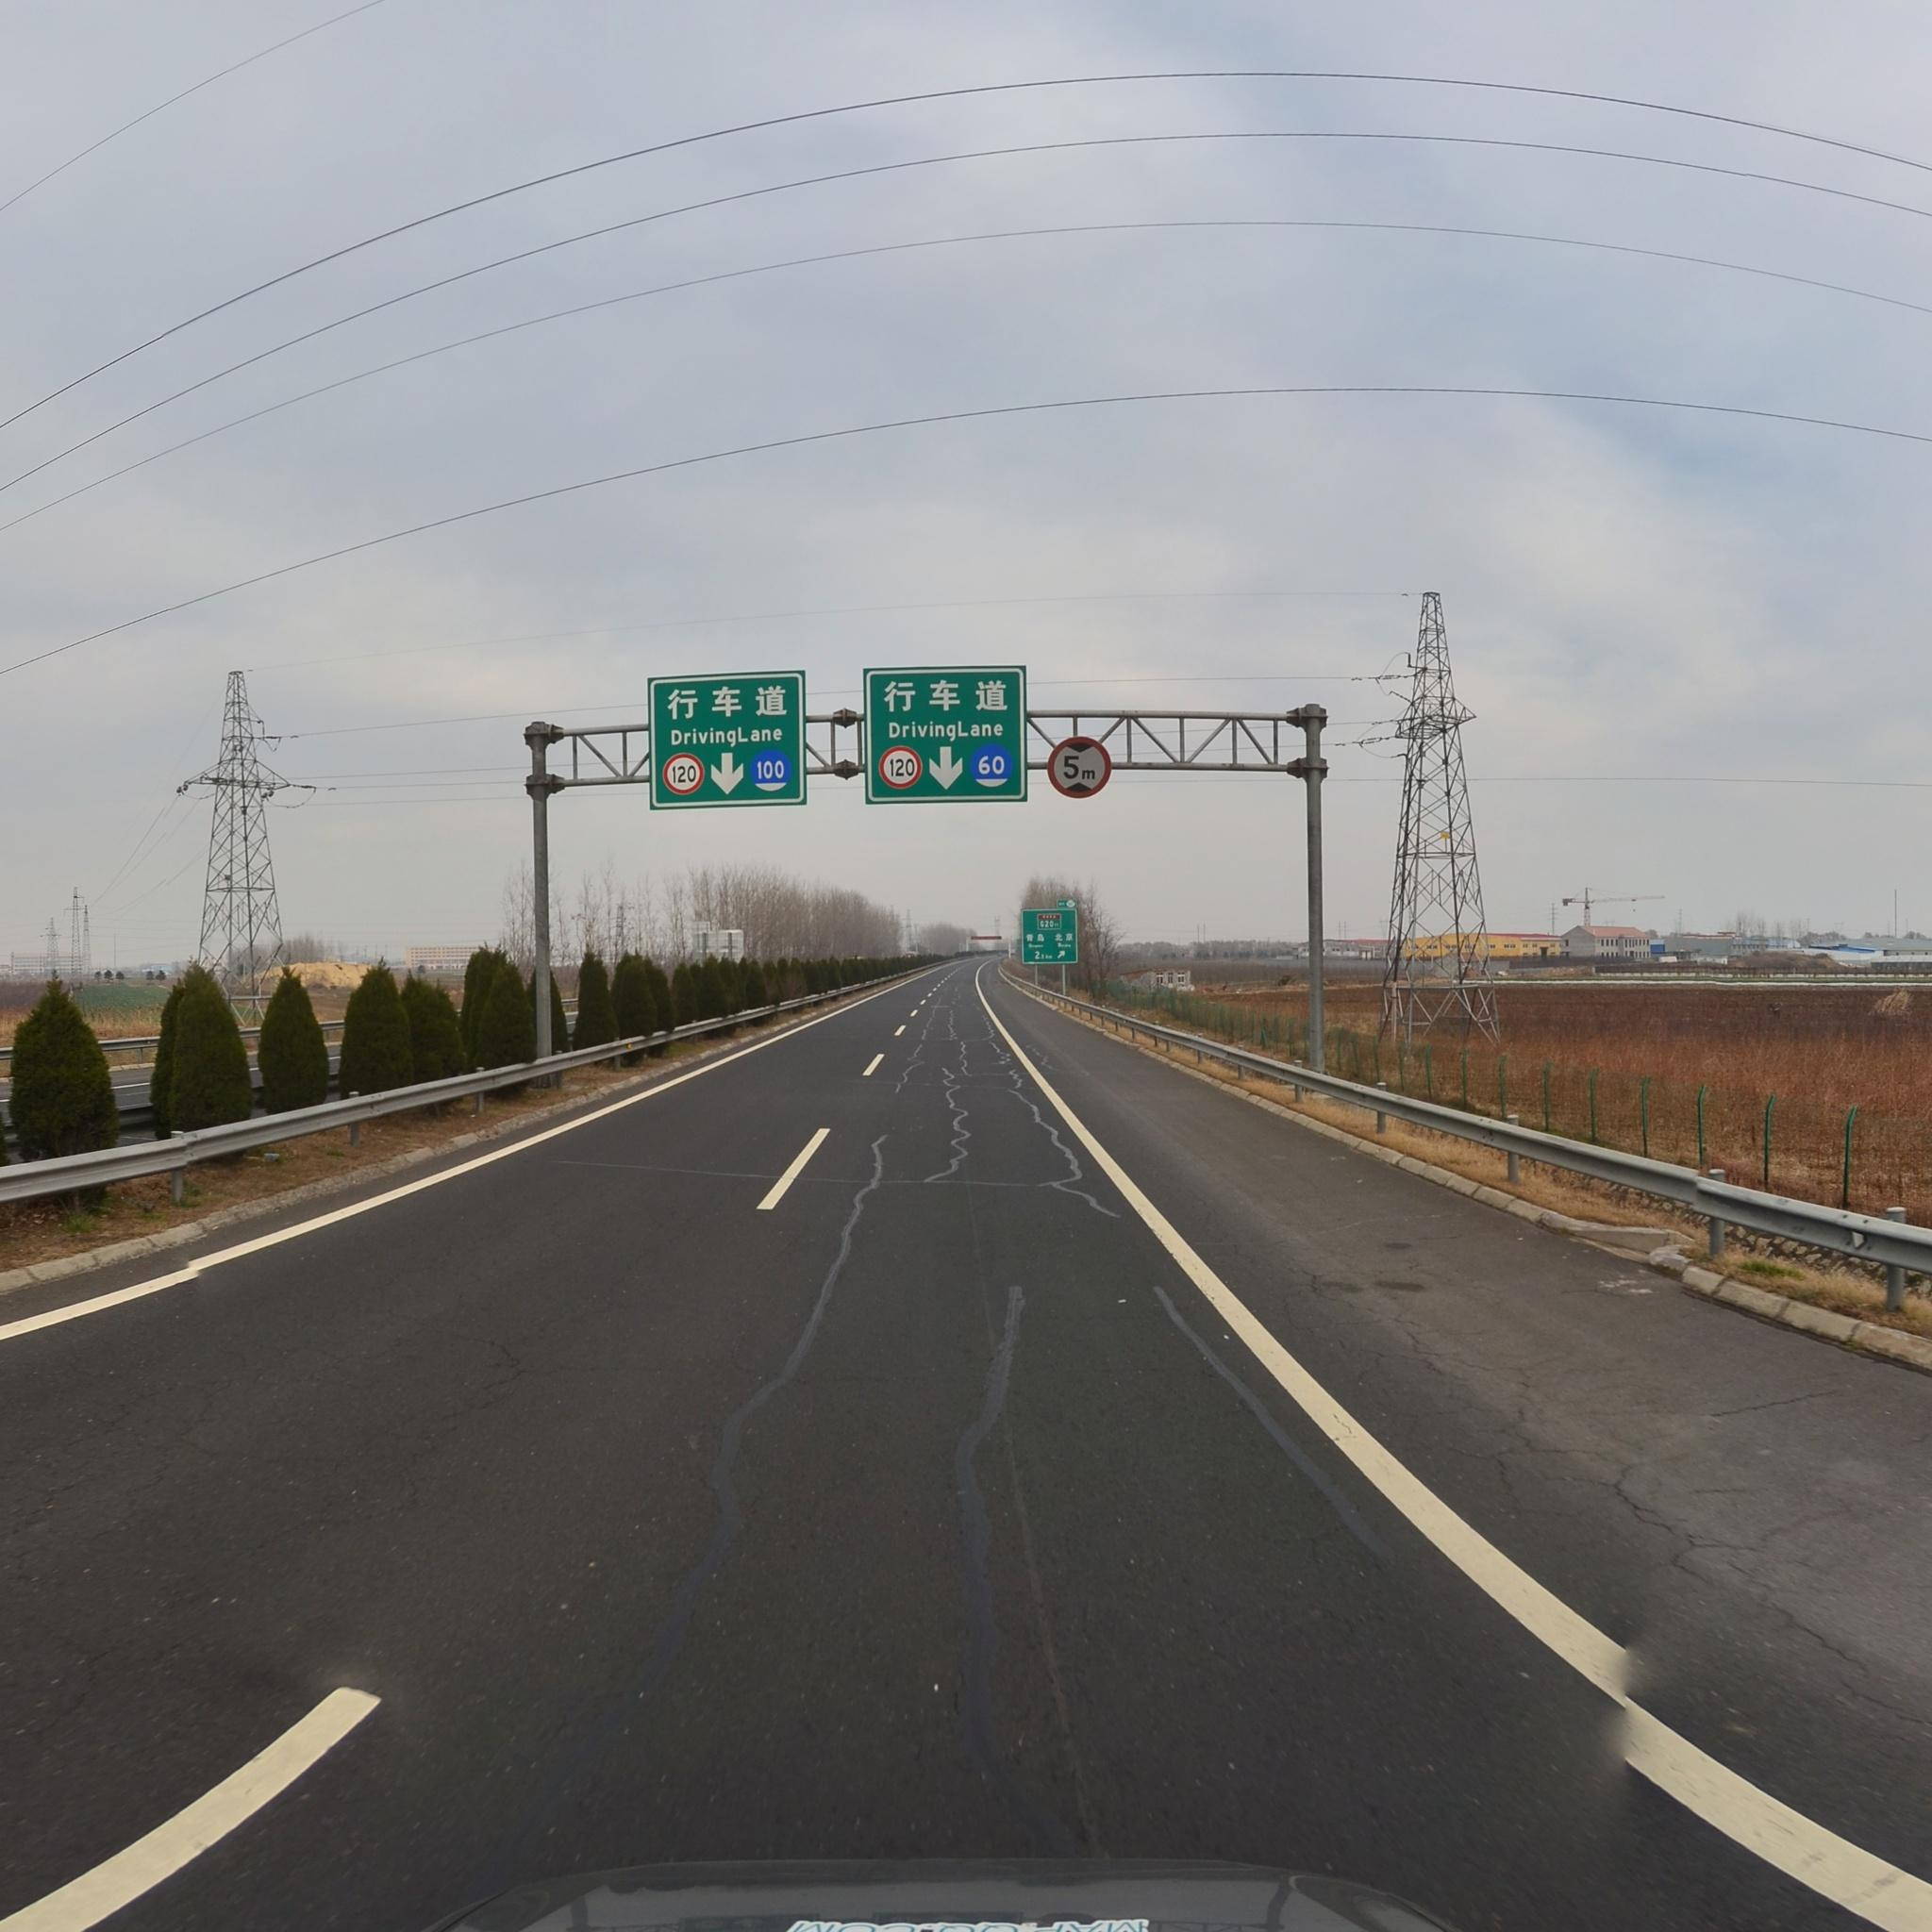pl120: (662, 752, 702, 794), (879, 747, 920, 789)
